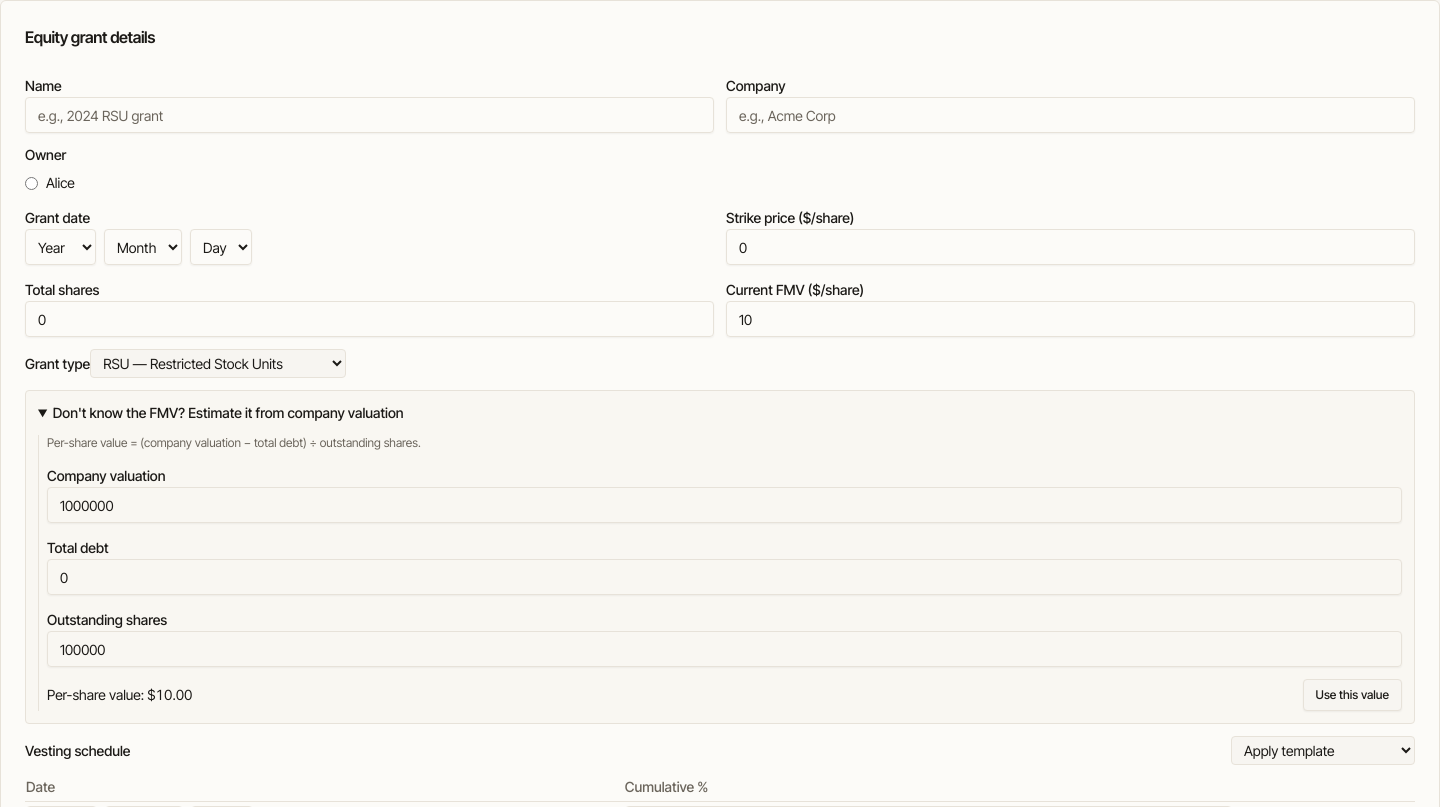
Test: EquityGrantForm — calculator section › clearing a calculator input blanks the per-share preview but keeps currentFmv unchanged
This screenshot has width=1440, height=807.
Expected: the text "$10.00" is shown, 147,686 -> 192,703
Clear the number field labelled "Outstanding shares" at (724, 649), box 47,631 -> 1402,667
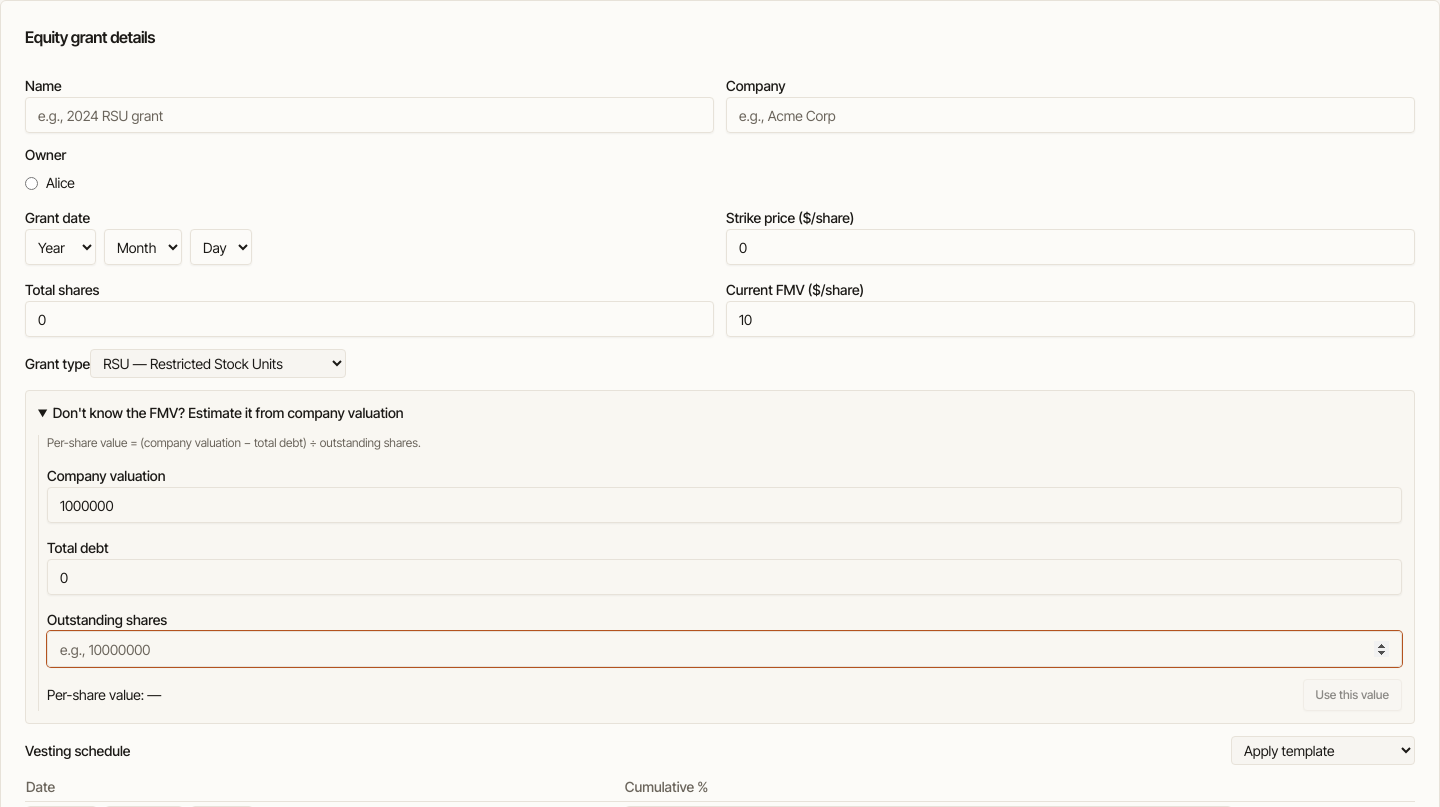
Expected: the number field labelled "Current FMV ($/share)" holds "10", 726,301 -> 1415,337
Now the text "—" is shown, box 147,686 -> 161,703
